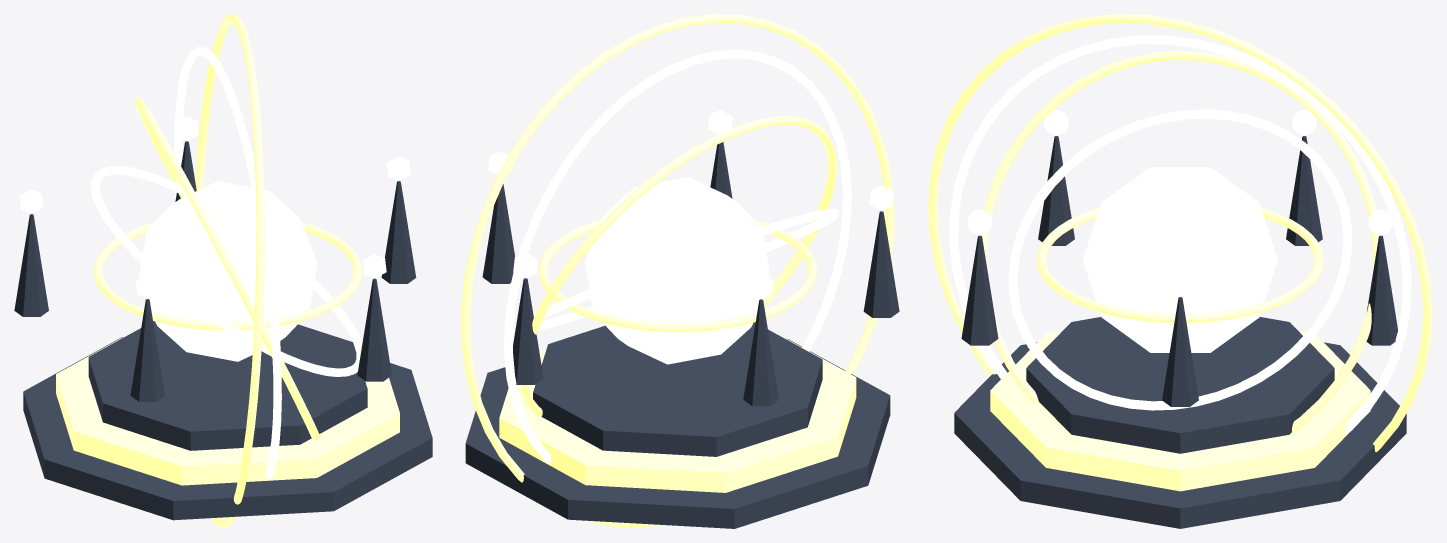
Rendered from gpu-blender-totem.glb.
The picture shows the model from 3 angles, left to right: view 1: azimuth 30°, elevation 25°; view 2: azimuth 150°, elevation 25°; view 3: azimuth 270°, elevation 25°; orthographic projection. The views are drawn at different scales.
Visible parts, largest first — view 1: Cylinder.002, Cylinder, SovereignCore_ufo-sacred-geometry, Cylinder.001, Torus.004, Torus.003, Torus.001, Torus, Torus.002, Cone.004, Cone.002, Cone.003 (+1 smaller); view 2: Cylinder.002, SovereignCore_ufo-sacred-geometry, Cylinder, Cylinder.001, Torus.004, Torus.003, Torus.002, Torus, Torus.001, Cone.002, Cone.003, Cone (+2 smaller); view 3: SovereignCore_ufo-sacred-geometry, Cylinder.002, Cylinder, Cylinder.001, Torus.004, Torus.001, Torus.003, Torus.002, Torus, Cone.004, Cone, Cone.001 (+2 smaller).
Boxes of the visible parts, <box> form: Cylinder.002: <box>88,321,367,450</box>; Cylinder: <box>23,337,432,520</box>; SovereignCore_ufo-sacred-geometry: <box>138,181,317,361</box>; Cylinder.001: <box>56,328,399,485</box>; Torus.004: <box>195,14,264,528</box>; Torus.003: <box>174,46,281,478</box>; Torus.001: <box>91,166,362,376</box>; Torus: <box>93,221,362,330</box>; Torus.002: <box>134,97,320,440</box>; Cone.004: <box>357,278,391,381</box>; Cone.002: <box>14,214,48,316</box>; Cone.003: <box>130,299,164,401</box>; Cylinder.002: <box>533,322,822,456</box>; SovereignCore_ufo-sacred-geometry: <box>585,177,770,364</box>; Cylinder: <box>465,338,890,528</box>; Cylinder.001: <box>499,330,856,492</box>; Torus.004: <box>461,14,894,527</box>; Torus.003: <box>504,49,851,463</box>; Torus.002: <box>519,116,836,417</box>; Torus: <box>538,219,817,332</box>; Torus.001: <box>533,208,838,330</box>; Cone.002: <box>743,299,778,406</box>; Cone.003: <box>863,211,899,317</box>; Cone: <box>482,184,514,283</box>; SovereignCore_ufo-sacred-geometry: <box>1083,167,1277,352</box>; Cylinder.002: <box>1026,317,1334,453</box>; Cylinder: <box>954,342,1406,528</box>; Cylinder.001: <box>990,330,1370,491</box>; Torus.004: <box>928,14,1432,452</box>; Torus.001: <box>1008,109,1352,410</box>; Torus.003: <box>949,35,1411,434</box>; Torus.002: <box>980,50,1380,433</box>; Torus: <box>1037,207,1323,322</box>; Cone.004: <box>961,235,998,345</box>; Cone: <box>1162,297,1198,406</box>; Cone.001: <box>1366,235,1397,345</box>.
Bounding box in the file's own units: 4.41 × 5.33 × 4.9.
